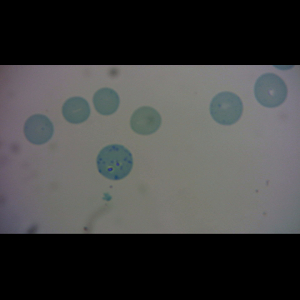aggregate reticulocyte: (96, 143, 135, 181)
erythrocyte: (253, 72, 290, 109), (129, 105, 161, 136), (61, 96, 91, 125), (92, 87, 121, 116)
punctate reticulocyte: (209, 91, 244, 126), (23, 114, 55, 145)
